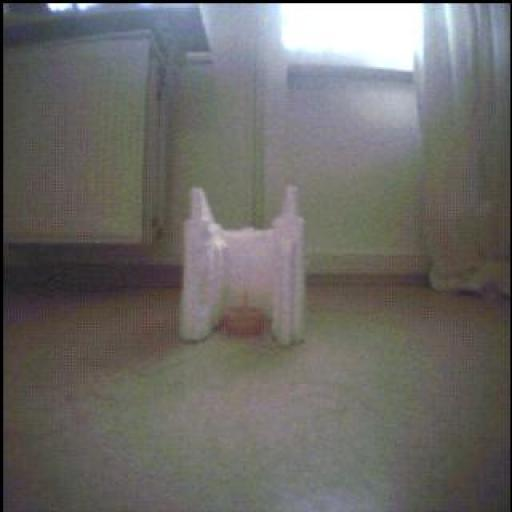Basket: (222, 295, 267, 337)
